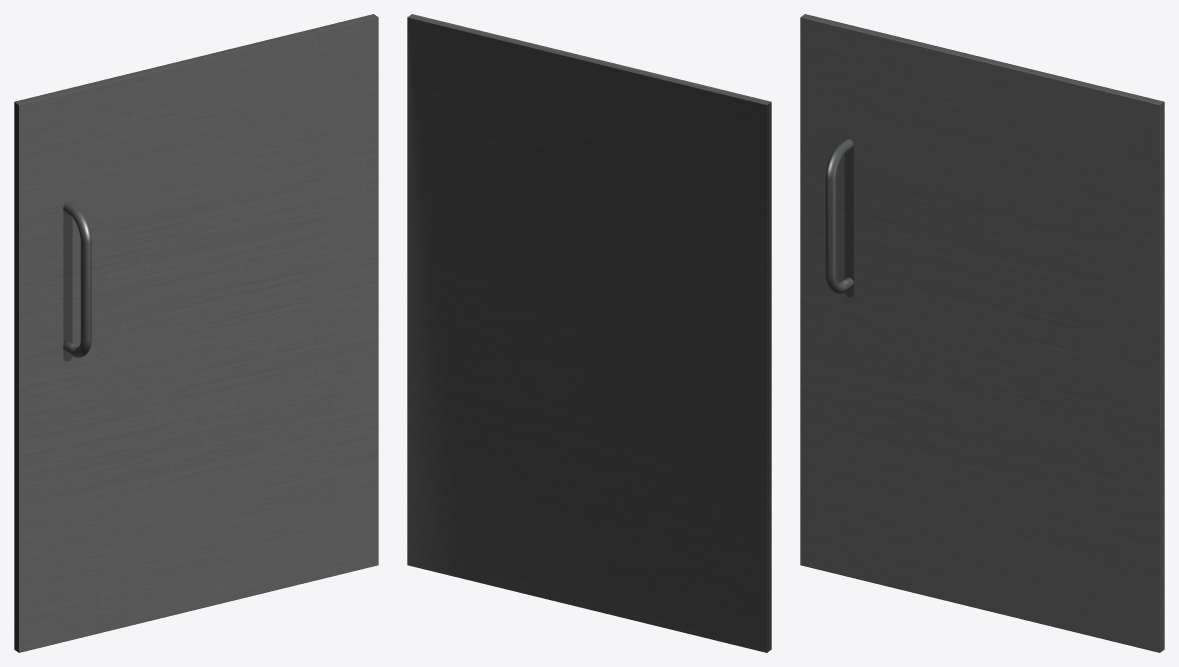
Rendered from cabinet_b2.gltf.
3 views of the same model, side by side, from view 1: azimuth 30°, elevation 25°; view 2: azimuth 150°, elevation 25°; view 3: azimuth 330°, elevation 25° (orthographic).
Parts seen in each view (by area): view 1: cabinet_b2, handle_cabinet_b2; view 2: cabinet_b2; view 3: cabinet_b2, handle_cabinet_b2.
Boxes of the visible parts, box(x1,y1,x2,y2) form: cabinet_b2: box(14, 14, 378, 652); handle_cabinet_b2: box(63, 202, 91, 357); cabinet_b2: box(407, 14, 771, 652); cabinet_b2: box(800, 14, 1164, 652); handle_cabinet_b2: box(825, 138, 853, 293).
Bounding box in the file's own units: 1.59 × 2.31 × 0.1962.
Materials: 2 (2 with a texture image).
